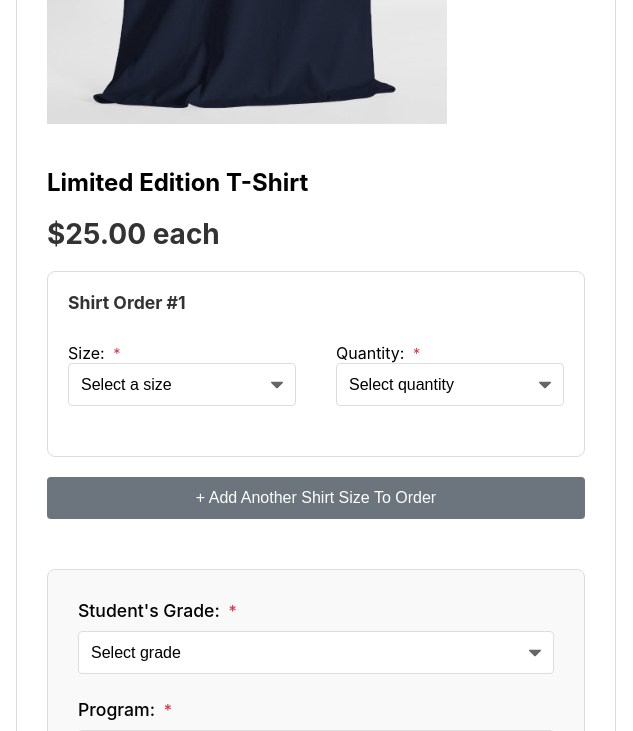
Test: HomeView — order summary › appears once size and quantity are selected
(page scrolled)
Select "L" in the dropdown with id "size-0": {"x": 182, "y": 385} [68,363,296,406]
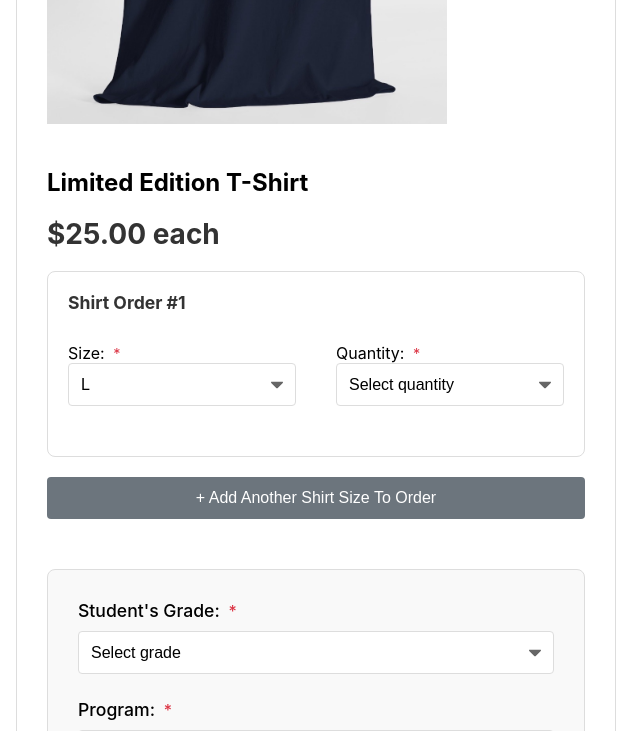
Select "2" in the dropdown labelled "Quantity: *": {"x": 450, "y": 385} [336,363,564,406]
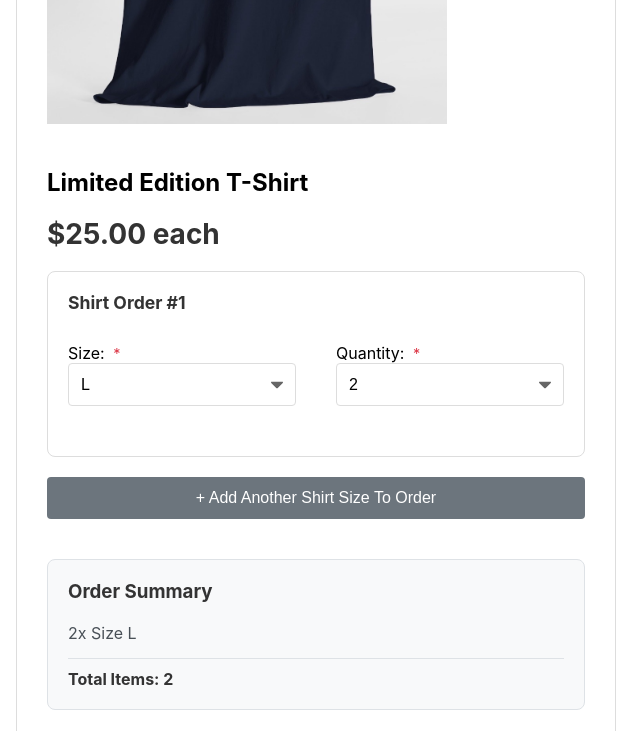
Result: the element with class "order-summary" is shown at [47,559,585,710]
Result: the text with class "summary-total" shows "2" at [68,669,173,689]
